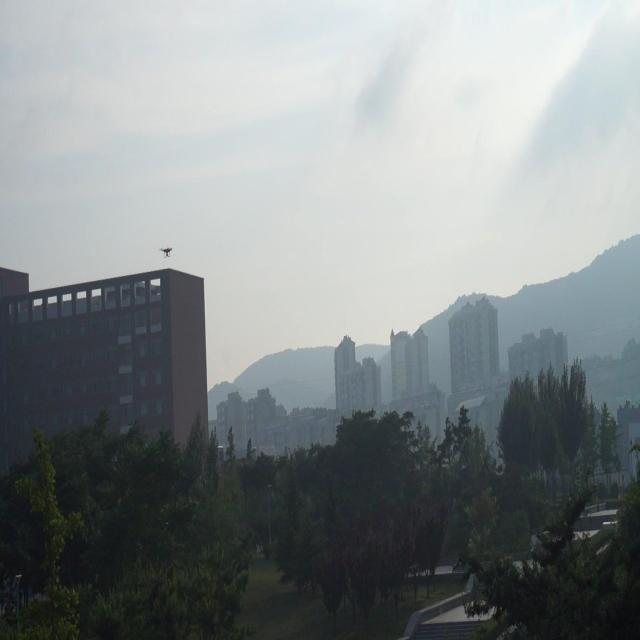drone: (160, 242, 175, 262)
